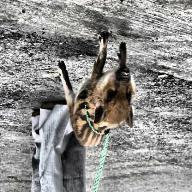boar: (61, 31, 142, 148)
